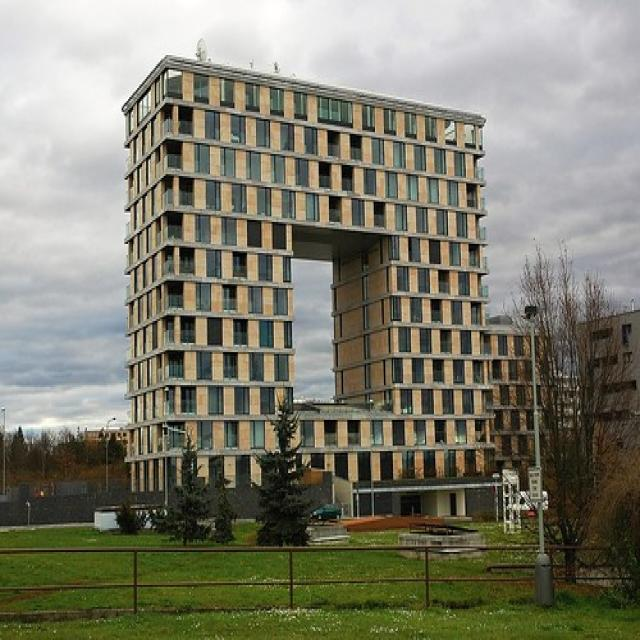Normal_building: (116, 46, 552, 532)
